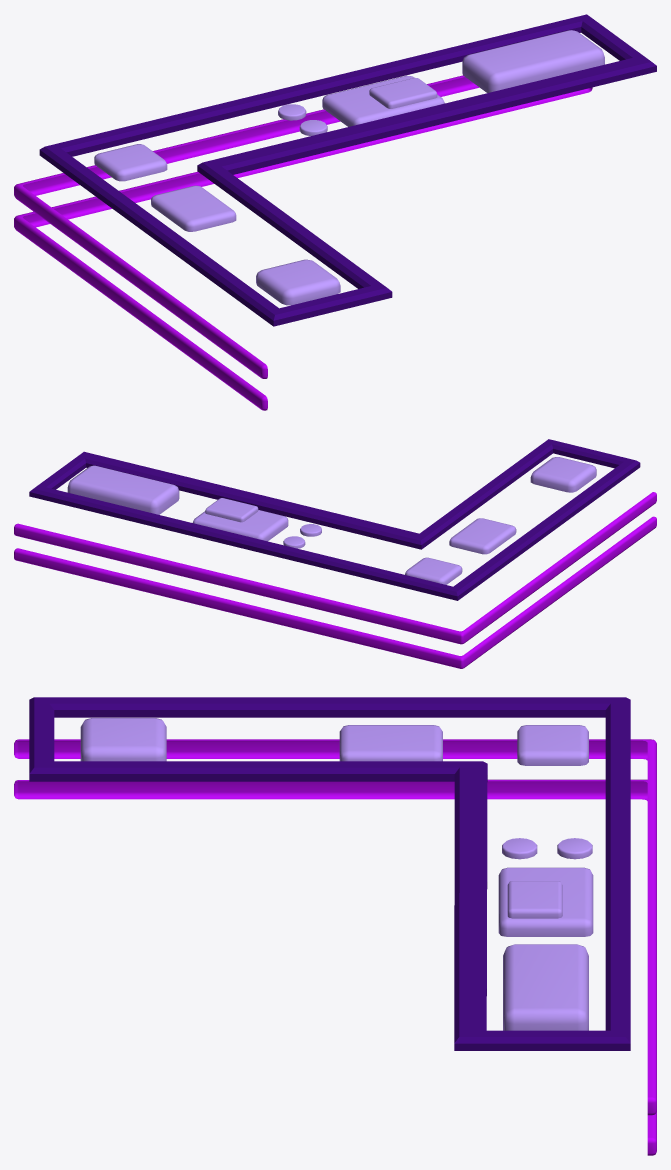
The model's file is wall_deco7.fbx.
3 views of the same model, one above another, from view 1: azimuth 30°, elevation 25°; view 2: azimuth 150°, elevation 25°; view 3: azimuth 270°, elevation 25° (orthographic). The views are drawn at different scales.
Parts seen in each view (by area): view 1: wall_deco7; view 2: wall_deco7; view 3: wall_deco7.
Boxes of the visible parts, bbox=[...] form: wall_deco7: bbox=[14, 14, 656, 410]; wall_deco7: bbox=[14, 439, 656, 668]; wall_deco7: bbox=[14, 697, 656, 1155].
Bounding box in the file's own units: 1207 × 186 × 908.
